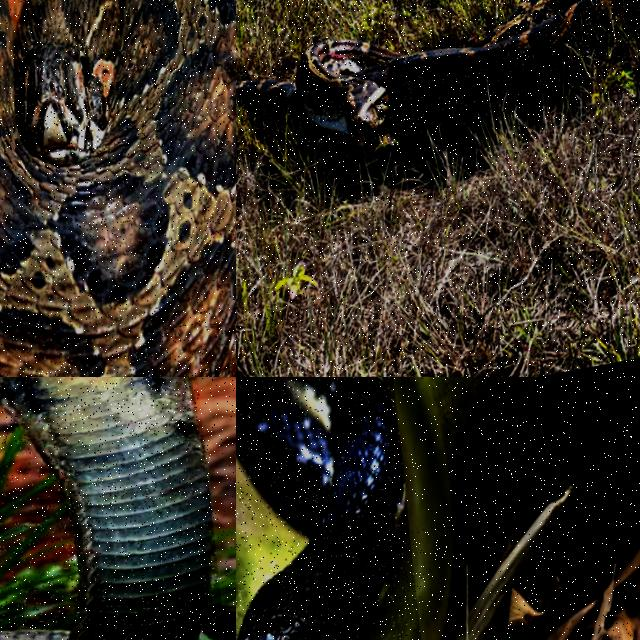Daboia siamensis: (0, 0, 235, 376)
Naja siamensis: (236, 377, 403, 639)
Ophiophagus hannah: (0, 377, 210, 639)
Python bivittatus: (236, 0, 639, 145)
snake: (0, 0, 235, 376), (236, 0, 639, 145), (0, 377, 210, 639), (236, 377, 403, 639)
